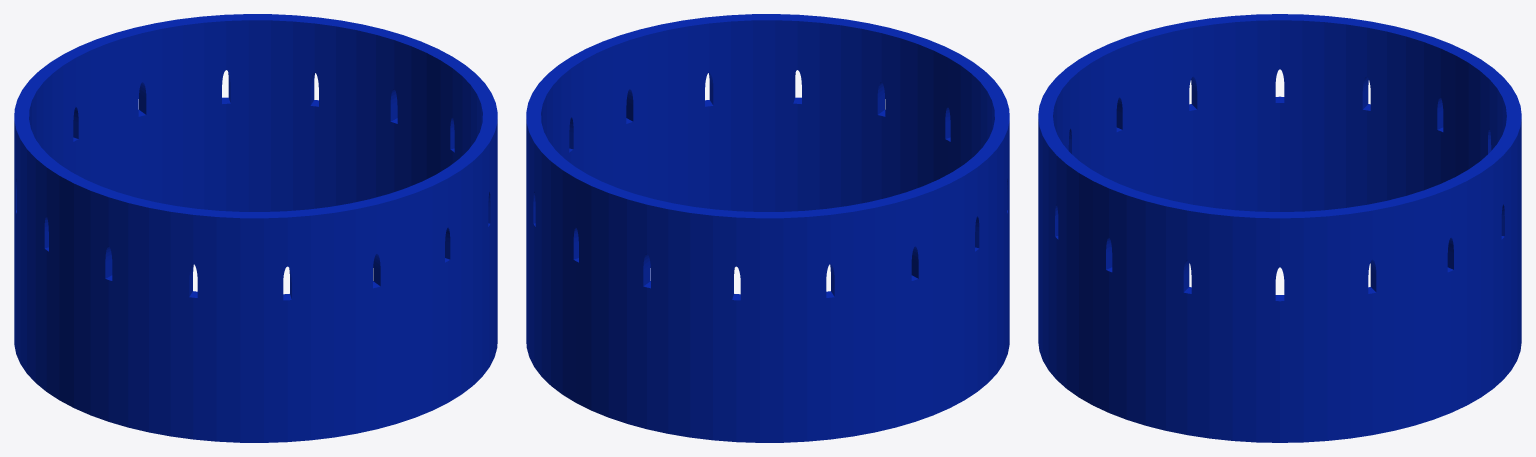
The model's file is CV_Heart_color_3.glb.
3 views of the same model, side by side, from view 1: azimuth 30°, elevation 25°; view 2: azimuth 150°, elevation 25°; view 3: azimuth 270°, elevation 25° (orthographic).
Visible parts, largest first — view 1: Parete; view 2: Parete; view 3: Parete.
Part boxes in pixels (bbox=[...]): Parete: bbox=[14, 14, 497, 442]; Parete: bbox=[526, 14, 1009, 442]; Parete: bbox=[1038, 14, 1521, 442].
Size of the model in its own units: 7.78 by 3.99 by 7.78.
